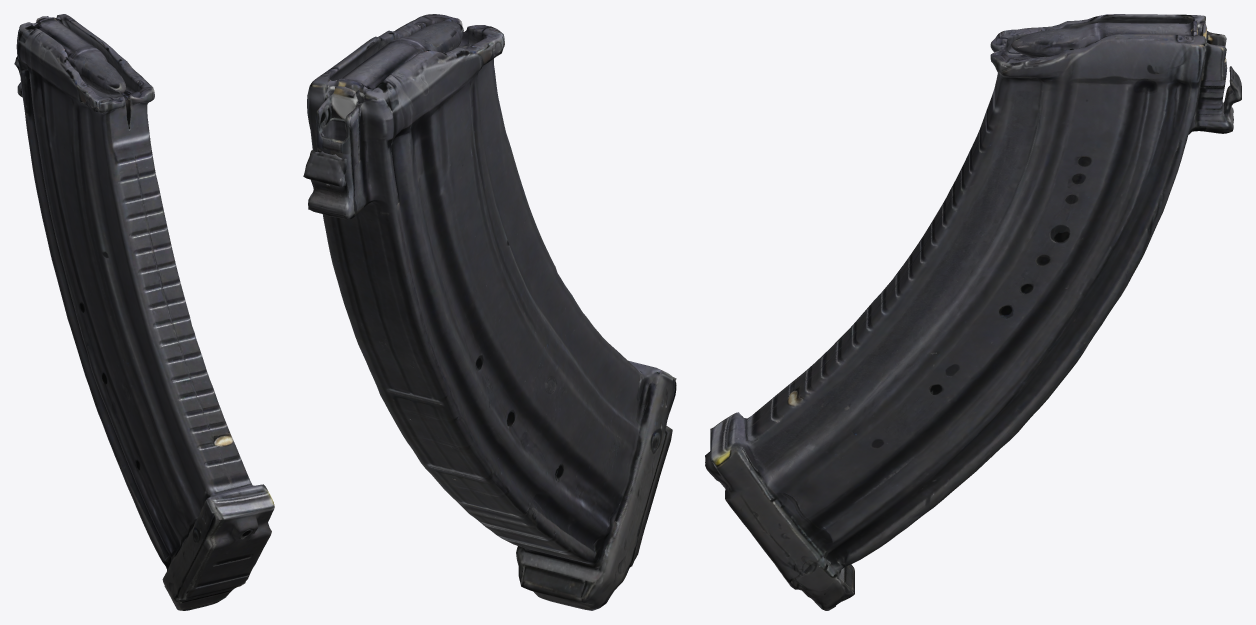
Rendered from A_curved_rifle_magazi_1115174151_refine.fbx.
3 renders of one model, left to right at view 1: azimuth 30°, elevation 25°; view 2: azimuth 150°, elevation 25°; view 3: azimuth 270°, elevation 25°, orthographic. The views are drawn at different scales.
Visible parts, largest first — view 1: Mesh1_Mesh1.019; view 2: Mesh1_Mesh1.019; view 3: Mesh1_Mesh1.019.
Boxes of the visible parts, x1=… form: Mesh1_Mesh1.019: x1=14, y1=14, x2=274, y2=610; Mesh1_Mesh1.019: x1=303, y1=14, x2=676, y2=610; Mesh1_Mesh1.019: x1=705, y1=14, x2=1241, y2=610.
Size of the model in its own units: 28.81 by 200 by 168.
1 material, 1 textured.
